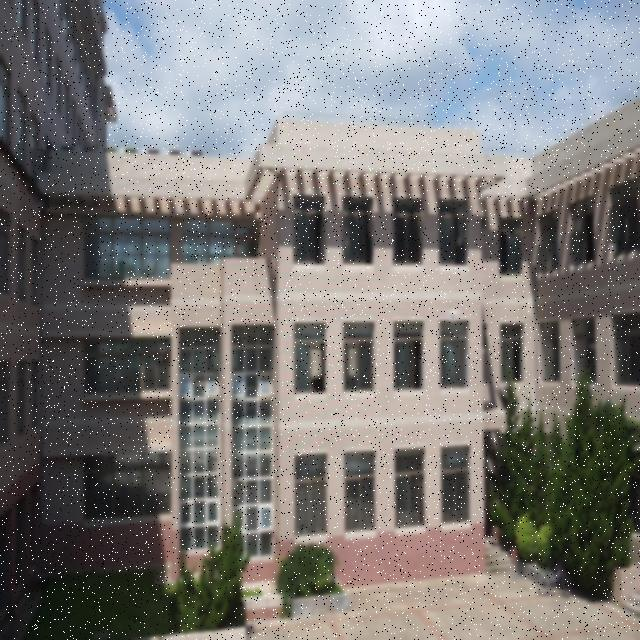UAV: (444, 310, 462, 322)
